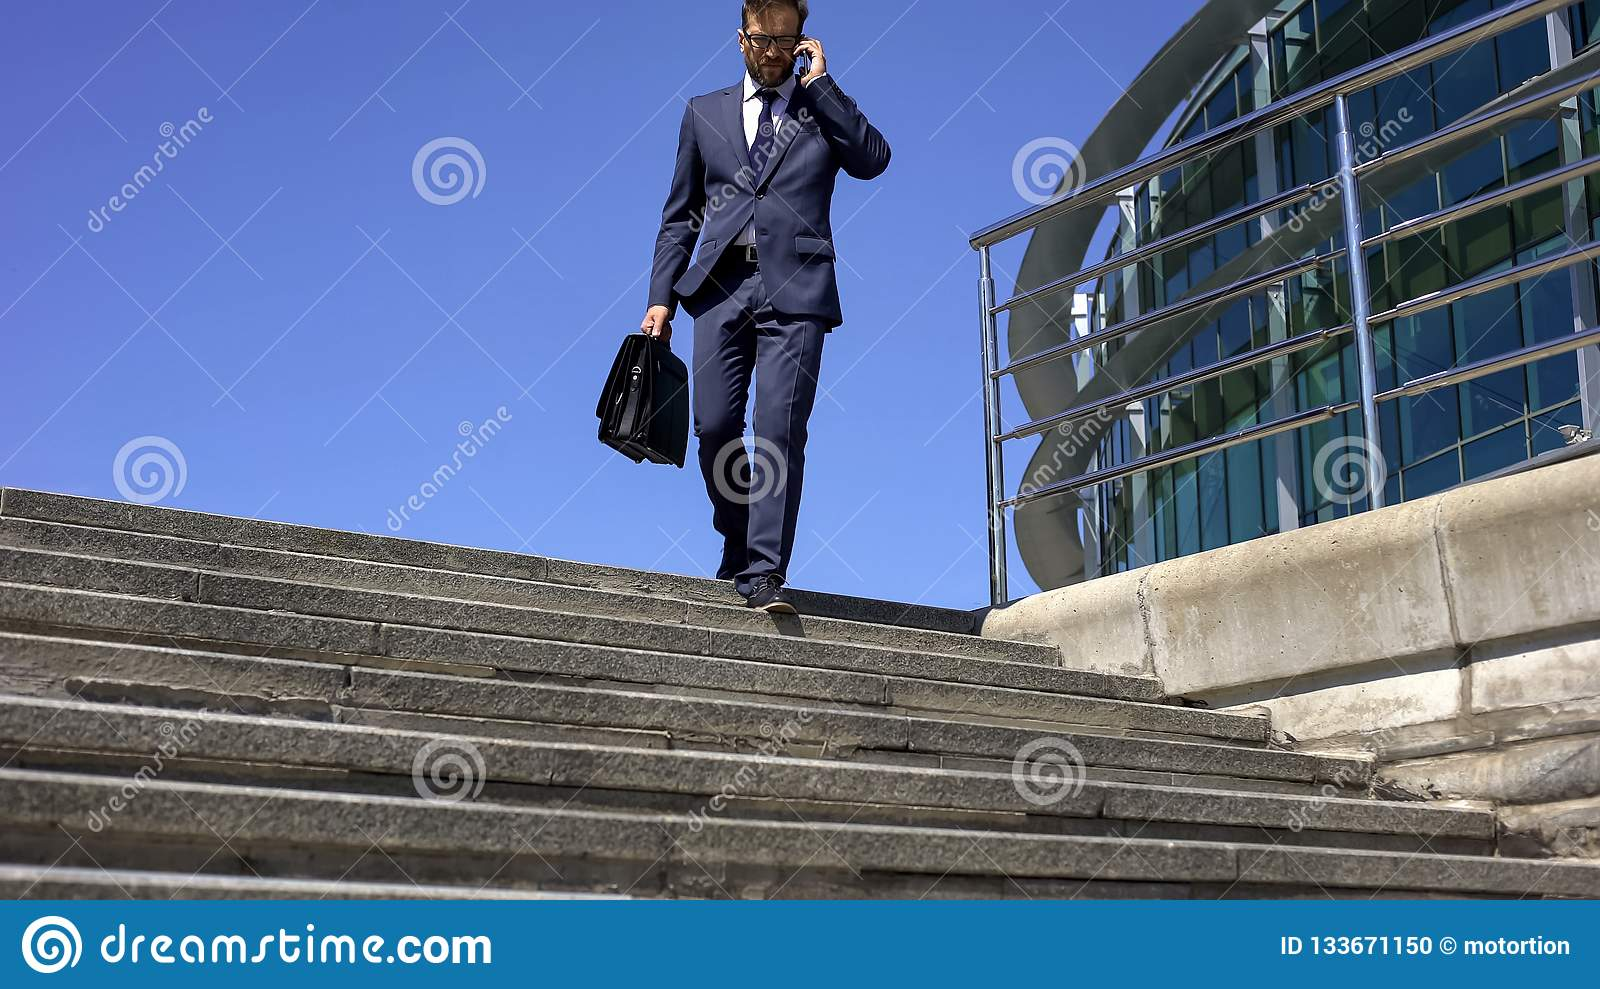phone: (797, 39, 810, 75)
talk: (742, 24, 826, 91)
